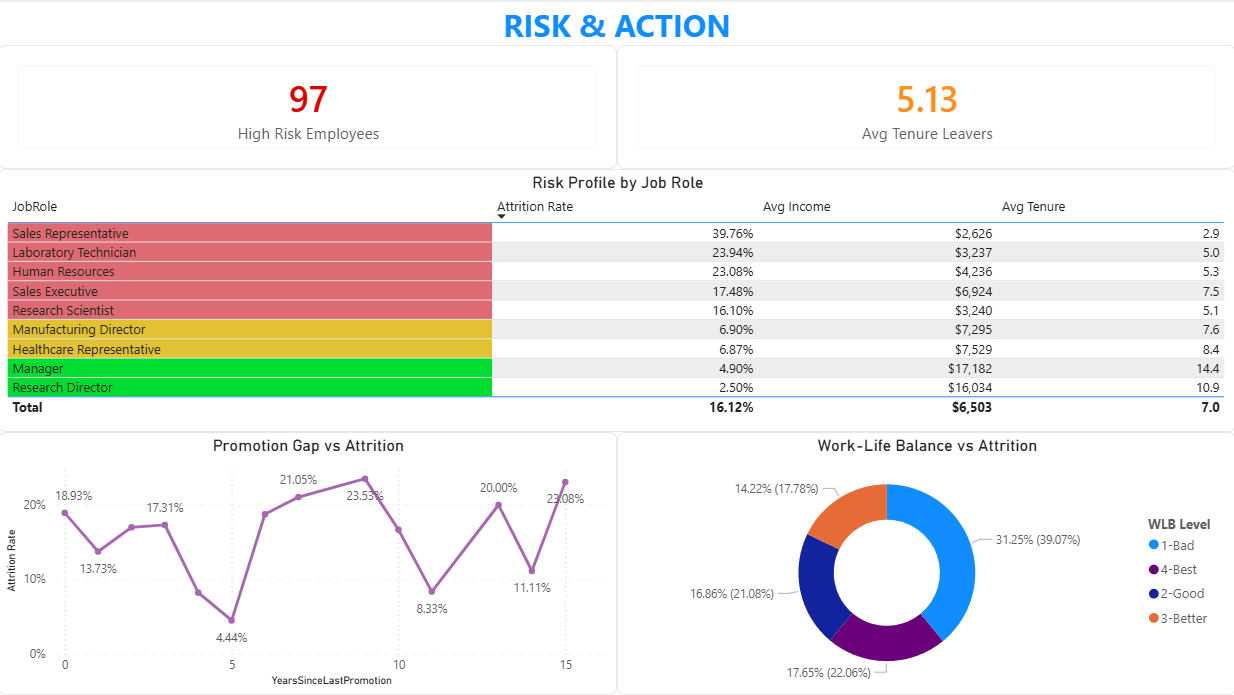

What the dashboard file says about the page in this screenshot:
{"tool":"powerbi","page":{"name":"Page 4","canvas":[1280,720],"ordinal":3},"visuals":[{"type":"actionButton","box":[0,0,1280,48],"z":0},{"type":"cardVisual","fields":{"Data":["employees.High Risk Count"]},"box":[0,48,640,128],"z":1000},{"type":"cardVisual","fields":{"Data":["employees.Avg Tenure Leavers"]},"box":[640,48,640,128],"z":2000},{"type":"tableEx","title":"Risk Profile by Job Role","fields":{"Values":["employees.JobRole","employees.Attrition Rate","employees.Avg Income","employees.Avg Tenure"]},"box":[0,176,1280,272],"z":3000},{"type":"donutChart","title":"Work-Life Balance vs Attrition","fields":{"Category":["employees.WLB Level"],"Y":["employees.Attrition Rate"]},"box":[640,448,640,272],"z":5000},{"type":"lineChart","title":"Promotion Gap vs Attrition","fields":{"Category":["employees.YearsSinceLastPromotion"],"Y":["employees.Attrition Rate"]},"box":[0,448,640,272],"z":5001}]}

Visuals, with their boxes in screenshot pixels (x1, y1, x2, y2), scaled from the page's 1280x720 canvas onto the 1234x695 screenshot:
actionButton: box(0, 0, 1233, 46)
cardVisual - employees.High Risk Count: box(0, 46, 617, 170)
cardVisual - employees.Avg Tenure Leavers: box(617, 46, 1233, 170)
"Risk Profile by Job Role" tableEx: box(0, 170, 1233, 432)
"Work-Life Balance vs Attrition" donutChart: box(617, 432, 1233, 694)
"Promotion Gap vs Attrition" lineChart: box(0, 432, 617, 694)
